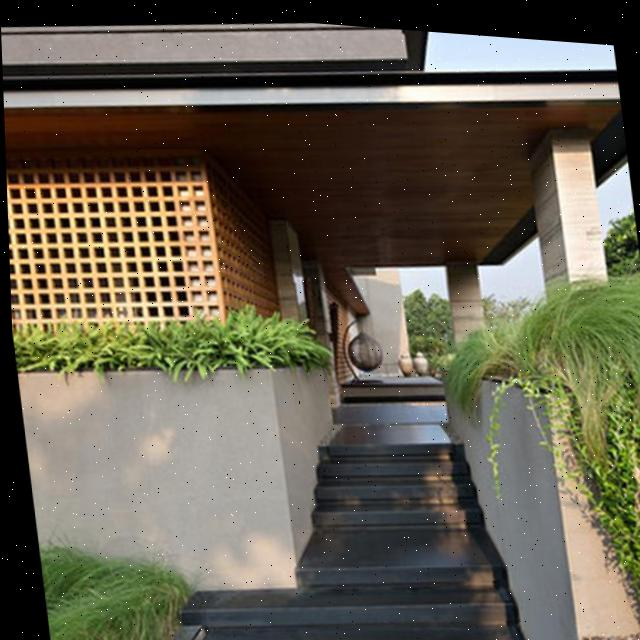building: (0, 0, 640, 433)
